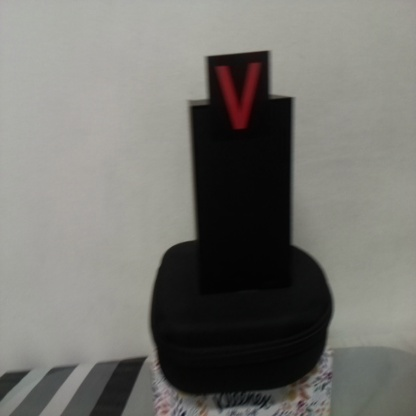id_11: (206, 56, 269, 140)
